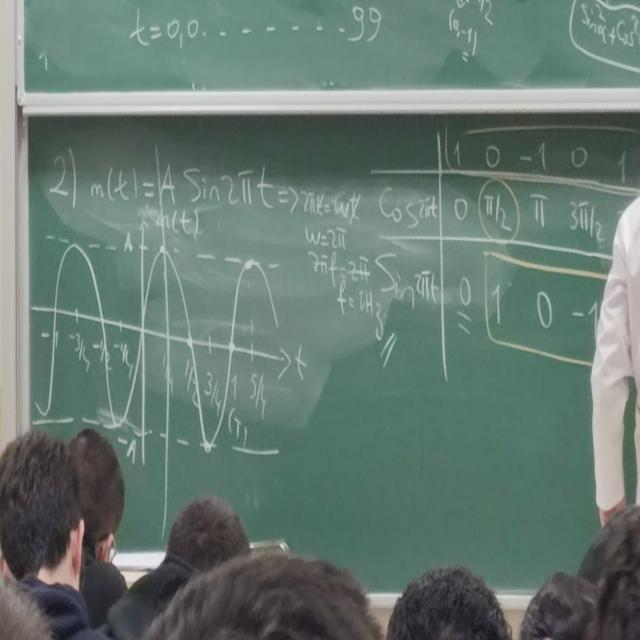image: (32, 230, 301, 472), (373, 131, 622, 361)
math: (85, 156, 289, 238), (298, 220, 368, 326), (299, 179, 370, 225)
